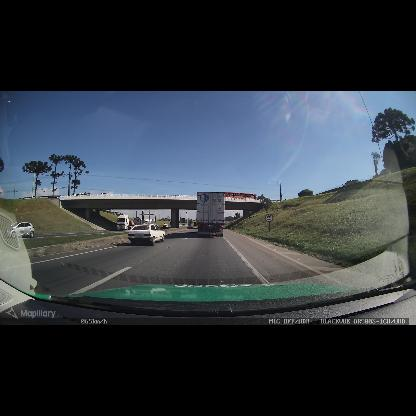R-19: (265, 213, 273, 222), (133, 217, 141, 225)
